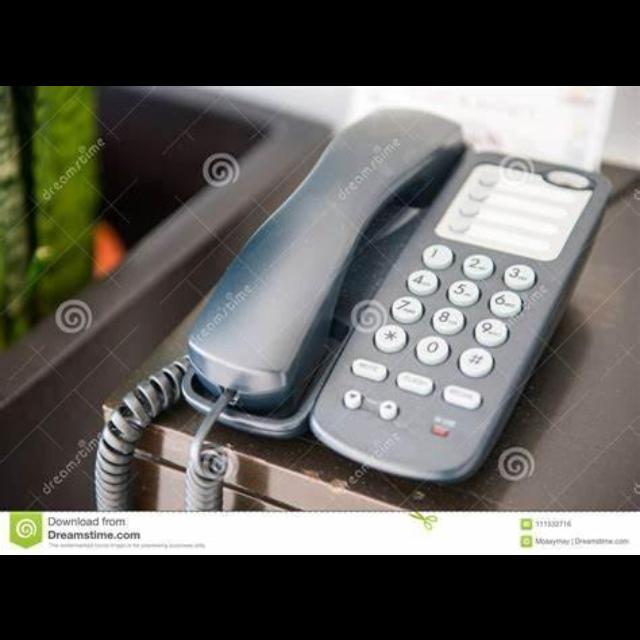Telephone-Set: (181, 104, 615, 486)
